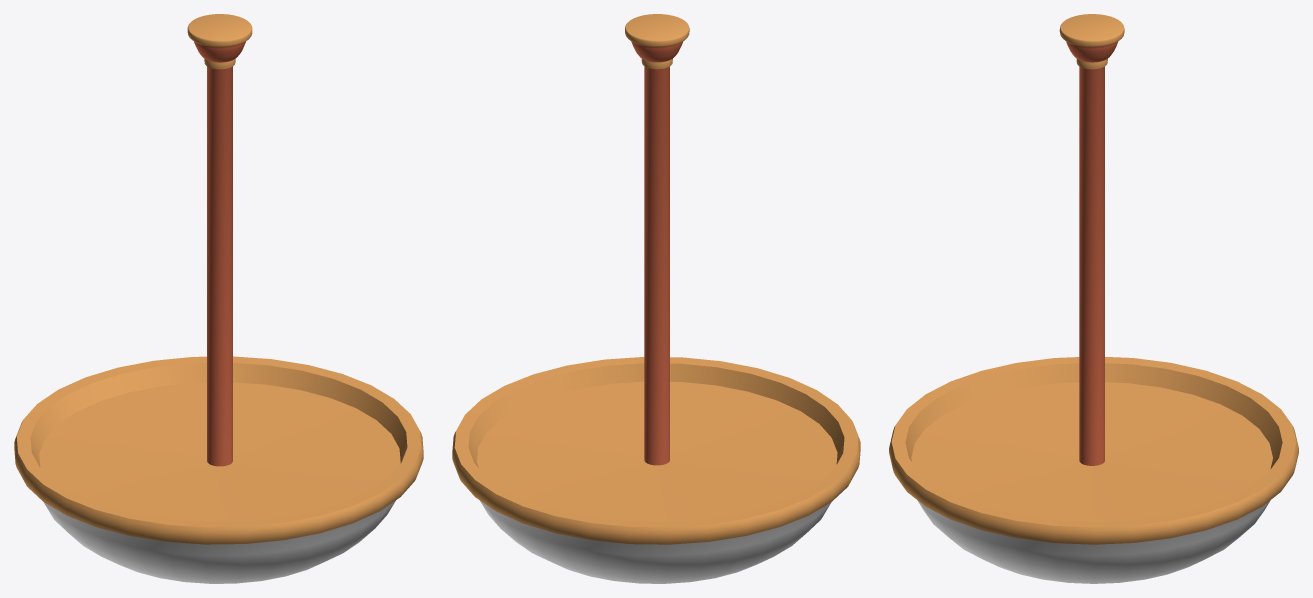
File: Ceiling Light.fbx
3 views of the same model, side by side, from view 1: azimuth 30°, elevation 25°; view 2: azimuth 150°, elevation 25°; view 3: azimuth 270°, elevation 25° (orthographic).
Visible parts, largest first — view 1: Sphere; view 2: Sphere; view 3: Sphere.
Part boxes in pixels (bbox=[...]): Sphere: bbox=[14, 14, 423, 583]; Sphere: bbox=[452, 14, 860, 583]; Sphere: bbox=[889, 14, 1298, 583].
Size of the model in its own units: 218 by 310 by 218.
